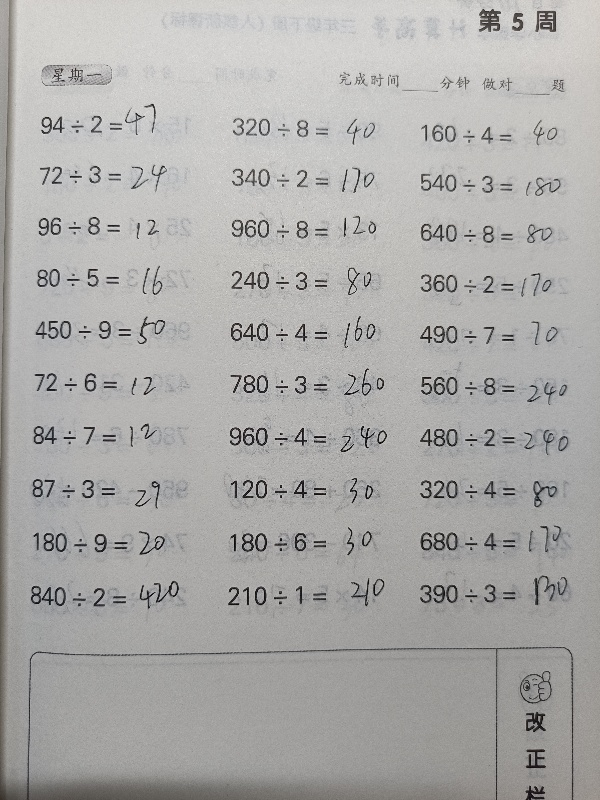equation: (411, 565, 591, 611), (32, 101, 212, 146), (411, 518, 591, 562), (26, 310, 206, 354), (21, 575, 201, 618), (221, 419, 401, 461), (222, 470, 402, 511), (411, 420, 591, 461), (411, 266, 591, 304), (221, 525, 401, 560), (24, 524, 204, 559), (222, 366, 402, 401), (411, 216, 591, 251), (411, 167, 591, 202), (219, 578, 399, 612), (412, 472, 592, 506), (23, 471, 203, 505), (24, 418, 204, 452), (413, 369, 593, 403), (26, 365, 206, 399), (412, 318, 592, 352), (221, 315, 401, 349), (222, 263, 402, 297), (28, 261, 208, 295), (222, 212, 402, 246), (29, 209, 209, 243), (223, 161, 403, 195), (31, 158, 211, 192), (223, 110, 403, 144), (412, 118, 592, 151)
